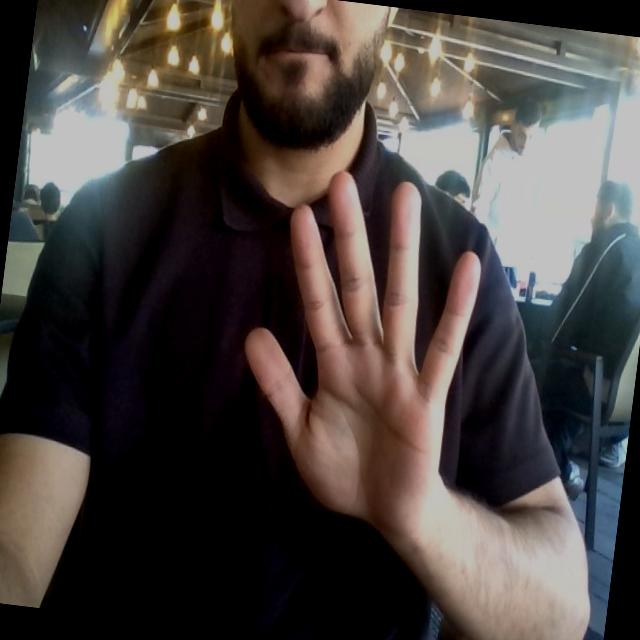Hand: (245, 173, 480, 538)
